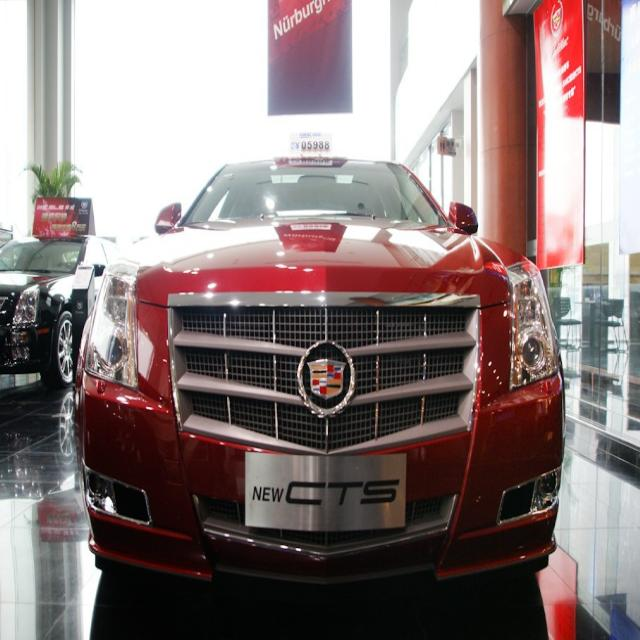front_bumper: (78, 380, 567, 580)
front_glass: (181, 157, 451, 226)
front_left_side_light: (504, 256, 560, 394)
front_left_side_mirror: (449, 200, 479, 240)
front_right_side_light: (84, 258, 140, 392)
front_right_side_mirror: (156, 202, 182, 238)
